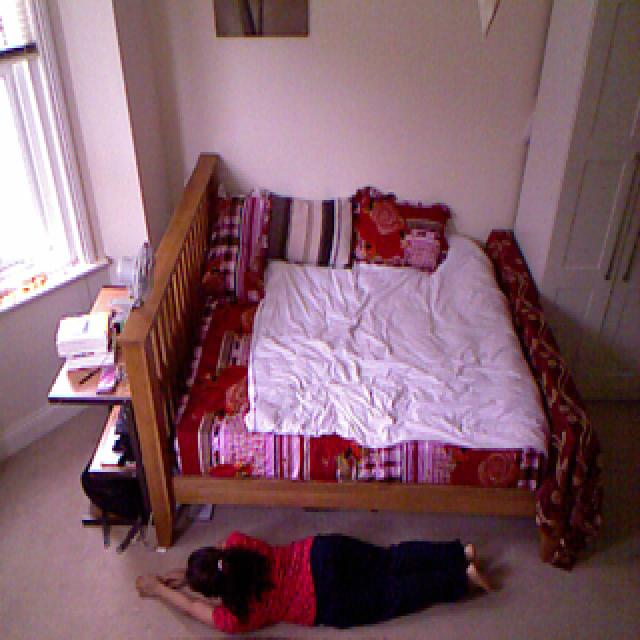lying: (131, 529, 510, 636)
